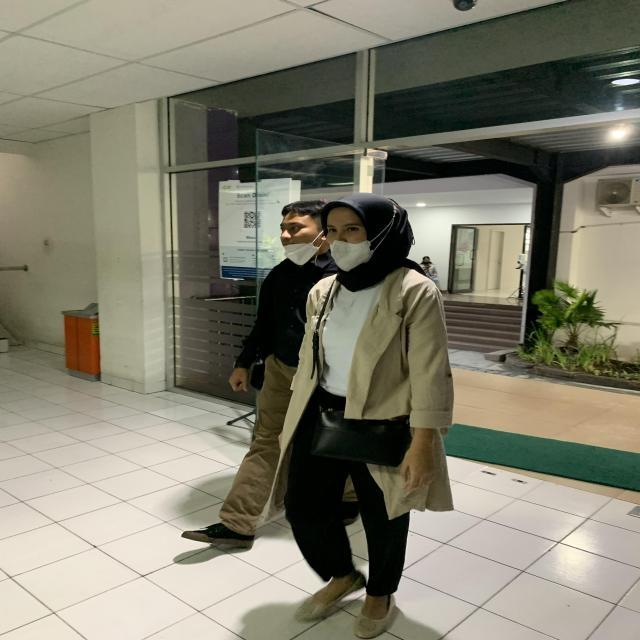hairnet: (266, 200, 363, 268)
